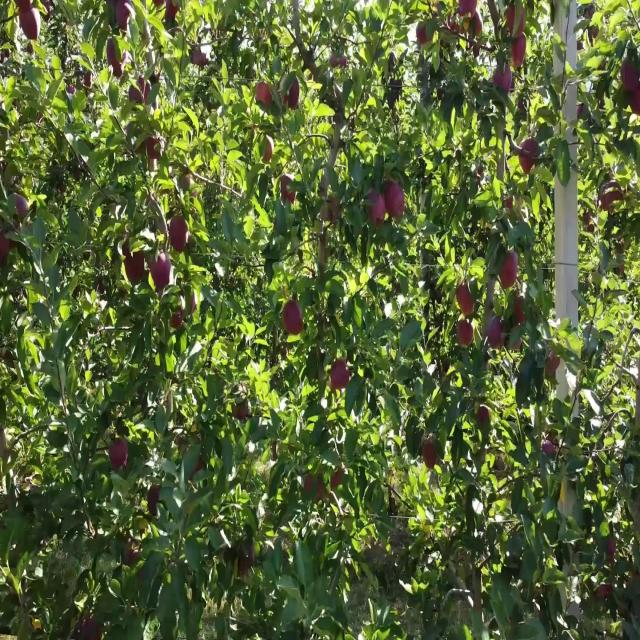apple: (124, 248, 147, 284), (284, 298, 304, 338), (172, 298, 196, 331), (152, 255, 172, 292), (500, 255, 520, 292), (20, 7, 40, 43), (520, 142, 540, 176), (388, 184, 406, 220), (456, 284, 475, 318), (368, 191, 386, 226), (332, 362, 352, 391), (284, 78, 300, 114), (512, 35, 528, 71), (108, 42, 124, 78), (112, 440, 130, 471), (172, 220, 188, 254), (600, 191, 624, 213), (132, 78, 151, 105), (508, 7, 525, 37), (496, 63, 512, 92), (488, 319, 504, 348), (624, 63, 640, 92), (240, 547, 256, 576), (460, 319, 475, 348), (460, 0, 476, 27), (0, 234, 15, 261), (460, 7, 475, 34), (544, 355, 560, 379), (424, 440, 437, 469), (148, 135, 161, 164), (148, 483, 160, 514), (116, 7, 132, 30), (256, 85, 272, 108), (172, 305, 186, 331), (84, 618, 101, 639), (284, 177, 296, 206), (416, 28, 432, 48), (192, 49, 208, 69), (448, 14, 462, 36), (472, 14, 484, 37), (632, 85, 640, 119), (596, 583, 613, 599), (332, 469, 344, 491), (16, 0, 32, 16), (16, 199, 28, 220), (516, 298, 525, 325), (480, 405, 491, 427), (584, 213, 595, 235), (332, 56, 348, 71), (20, 0, 32, 20), (168, 0, 179, 21), (264, 142, 273, 164), (236, 405, 248, 421), (512, 334, 524, 350), (544, 440, 556, 455), (304, 476, 314, 494), (608, 540, 616, 560), (472, 42, 480, 57), (196, 462, 204, 475), (84, 78, 92, 89), (68, 85, 76, 94), (508, 199, 513, 212)
